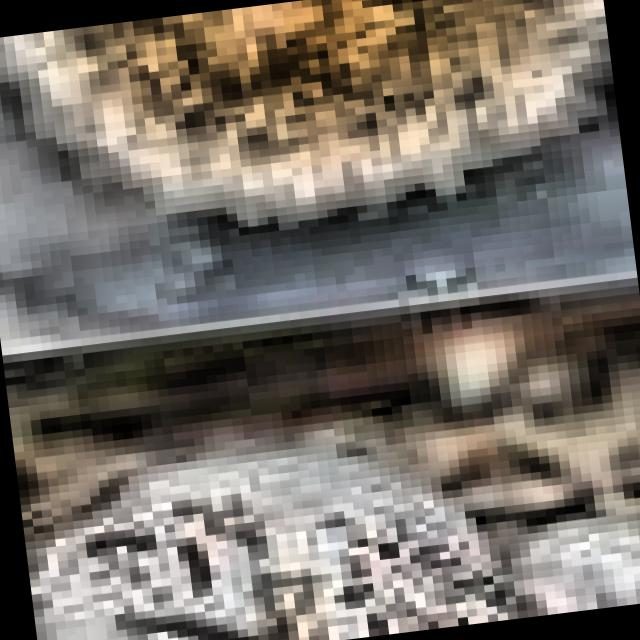Affected: (24, 464, 640, 640)
